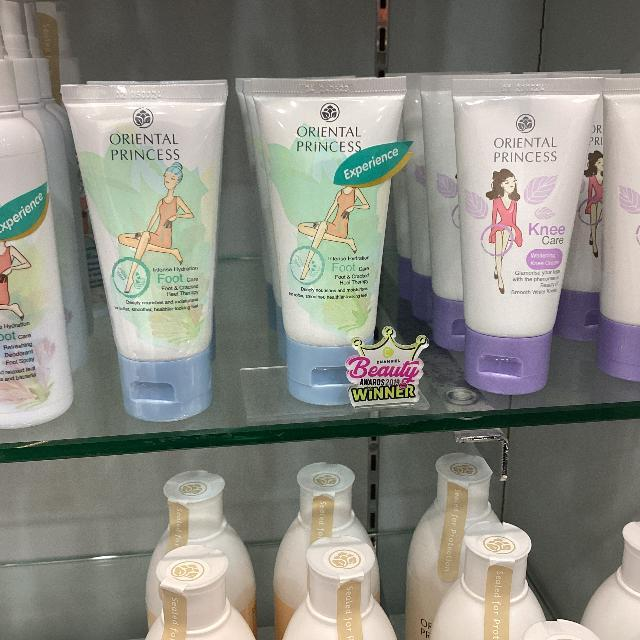Squeeze Tube: (50, 49, 231, 444), (230, 41, 402, 430), (435, 66, 609, 415)
